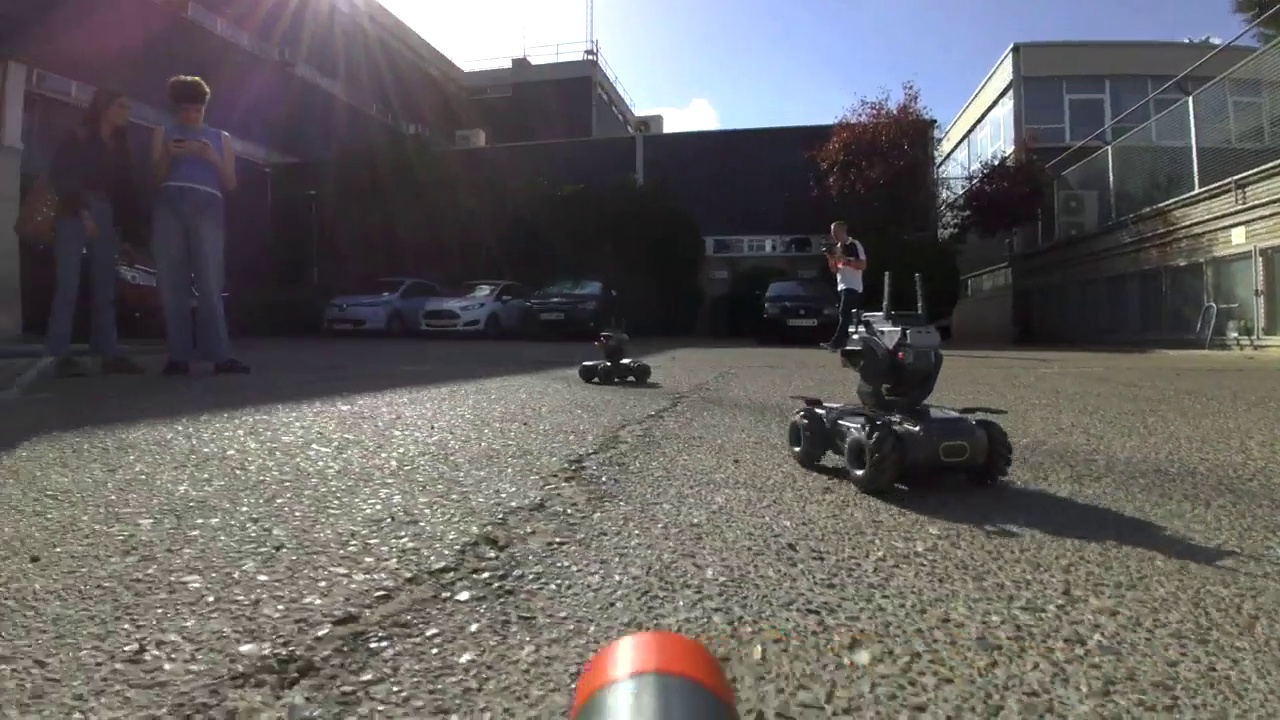robot: (792, 270, 1014, 484), (583, 317, 651, 388)
